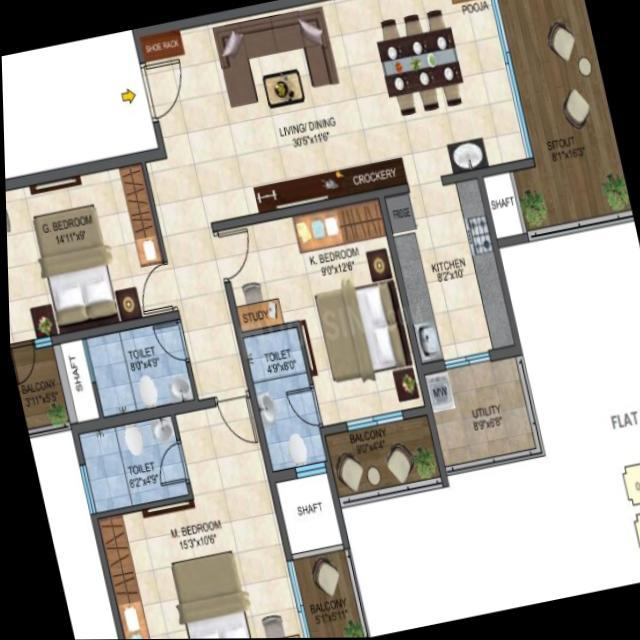Balcony-Sitout: (319, 405, 447, 510), (281, 542, 367, 638), (8, 333, 76, 445)
Bedroom: (275, 188, 434, 438), (4, 151, 179, 359)
Bedroom with Toilet: (84, 479, 308, 639)
Dining: (373, 5, 467, 118)
Enterance-Foyer: (94, 45, 209, 136)
Kitchen: (374, 169, 521, 377)
Living: (132, 0, 374, 241)
Toilet: (46, 316, 201, 436), (236, 321, 332, 486), (65, 405, 192, 526)
Utility: (411, 342, 543, 481)
